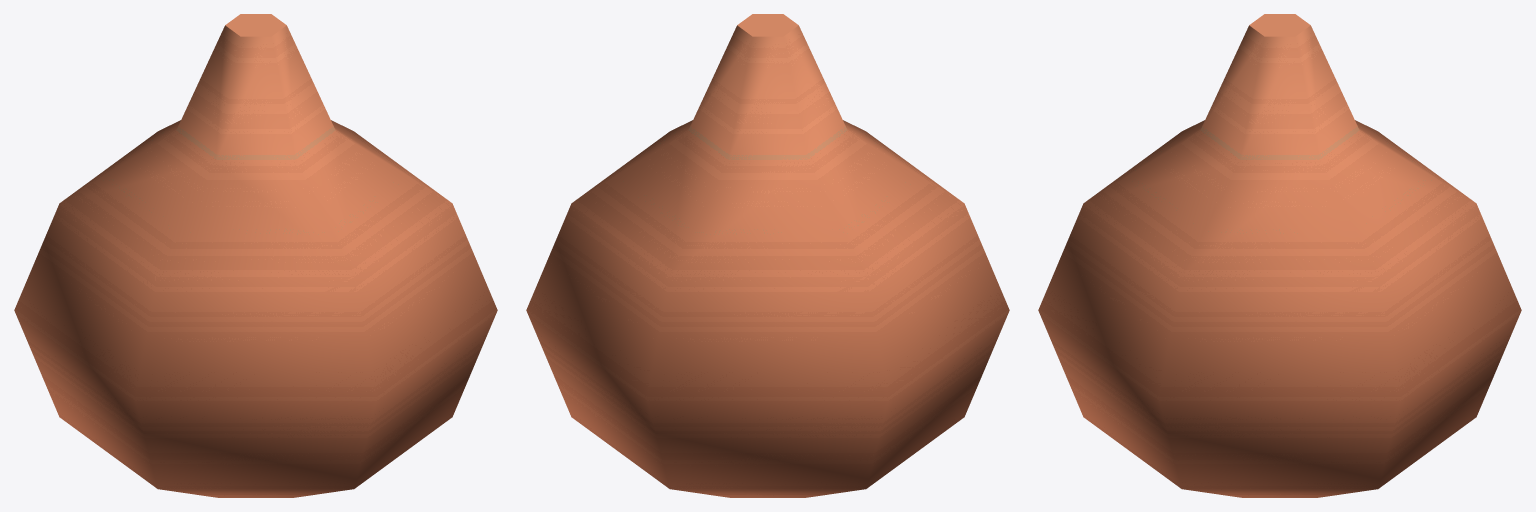
The model's file is food-onion.glb.
3 views of the same model, side by side, from view 1: azimuth 30°, elevation 25°; view 2: azimuth 150°, elevation 25°; view 3: azimuth 270°, elevation 25° (orthographic).
Visible parts, largest first — view 1: onion; view 2: onion; view 3: onion.
Part boxes in pixels (x1=…): onion: x1=14, y1=14, x2=497, y2=497; onion: x1=526, y1=14, x2=1009, y2=497; onion: x1=1038, y1=14, x2=1521, y2=497.
Size of the model in its own units: 0.213 by 0.25 by 0.246.
1 material, 1 textured.
